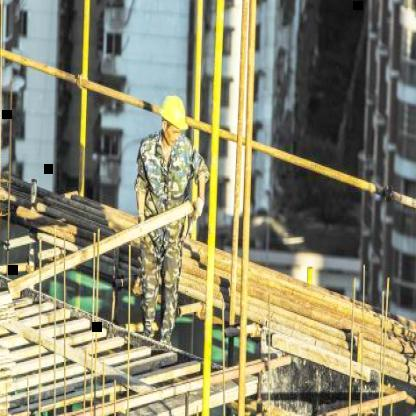helmet: (154, 89, 192, 137)
